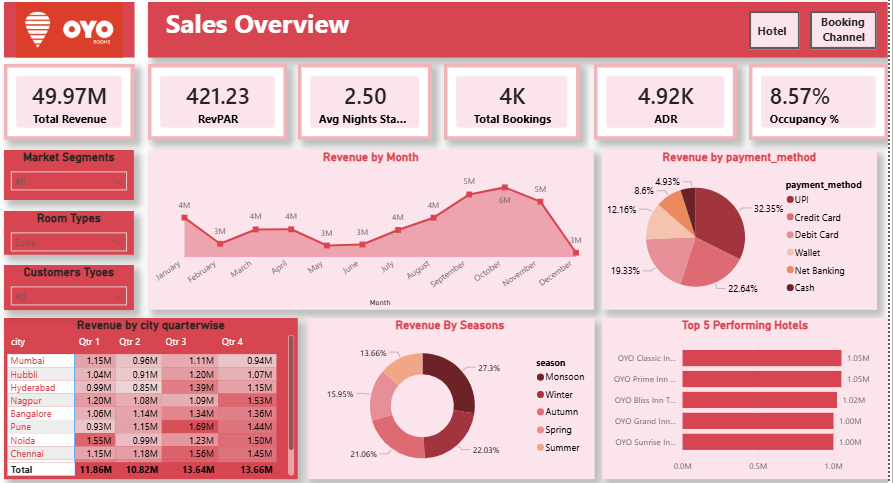

Layout of this report page (visuals, bound fields, positions):
{"tool":"powerbi","page":{"name":"Sales Overview","canvas":[1280,720],"ordinal":0},"visuals":[{"type":"textbox","box":[214.5,17.9,1065.5,80.4],"z":0},{"type":"cardVisual","fields":{"Data":["Customer RFM.Total Revenue"]},"box":[7.2,107.3,187.7,109.1],"z":1000},{"type":"cardVisual","fields":{"Data":["Customer RFM.Total Bookings"]},"box":[640.8,106.6,195.8,109.4],"z":2000},{"type":"cardVisual","fields":{"Data":["Customer RFM.ADR"]},"box":[856.8,106.6,205.9,109.4],"z":3000},{"type":"cardVisual","fields":{"Data":["Customer RFM.Avg Nights Stayed"]},"box":[430.6,106.6,193,109.4],"z":4000},{"type":"cardVisual","fields":{"Data":["Customer RFM.Occupancy %"]},"box":[1080,106.6,200.2,109.4],"z":5000},{"type":"cardVisual","fields":{"Data":["Customer RFM.RevPAR"]},"box":[214.6,106.6,200.2,109.4],"z":6000},{"type":"areaChart","title":"Revenue by Month","fields":{"Category":["Dim_Date.date.Variation.Date Hierarchy.Month"],"Y":["Customer RFM.Total Revenue"]},"box":[213.9,230.1,641.8,230.1],"z":7000},{"type":"donutChart","title":"Revenue By Seasons","fields":{"Category":["Dim_Date.season"],"Y":["Customer RFM.Total Revenue"]},"box":[440.4,472.8,417.1,231.9],"z":8000},{"type":"pieChart","title":" Revenue by payment_method","fields":{"Category":["Fact_Bookings.payment_method"],"Y":["Customer RFM.Total Revenue"]},"box":[868.3,230.1,395.5,230.1],"z":9000},{"type":"clusteredBarChart","title":" Top 5 Performing Hotels","fields":{"Category":["Dim_Hotels.hotel_name"],"Y":["Customer RFM.Total Revenue"]},"box":[868.3,472.3,411.8,231.8],"z":10000},{"type":"pivotTable","title":"Revenue by city quarterwise","fields":{"Columns":["Dim_Date.date.Variation.Date Hierarchy.Quarter"],"Rows":["Dim_Hotels.city"],"Values":["Customer RFM.Total Revenue"]},"box":[7.2,472.3,423.4,231.8],"z":11000},{"type":"image","box":[7.2,17.9,187.7,80.4],"z":12000},{"type":"slicer","title":"Market Segments","fields":{"Values":["Fact_Bookings.market_segment"]},"box":[7.2,230.1,187,71.9],"z":13000},{"type":"slicer","title":"Room Types","fields":{"Values":["Fact_Bookings.room_type"]},"box":[7.2,318.2,187,62.9],"z":14000},{"type":"slicer","title":"Customers Tyoes","fields":{"Values":["Dim_Customers.customer_type"]},"box":[7.2,395.5,187,64.7],"z":15000},{"type":"textbox","box":[1080,30.2,73.4,54.7],"z":18001},{"type":"textbox","box":[1167.8,30.2,96.5,54.7],"z":18002},{"type":"actionButton","box":[1080,30.2,73.4,54.7],"z":18003},{"type":"actionButton","box":[1167.8,30.2,96.5,54.7],"z":18004}]}

Visuals, with their boxes on the page's 1280x720 design canvas (x1, y1, x2, y2). These are canvas units, not pixel positions in the 893x483 screenshot, which may show the page scaled, cropped or inside an application window:
textbox: <bbox>214, 18, 1280, 98</bbox>
cardVisual - Customer RFM.Total Revenue: <bbox>7, 107, 195, 216</bbox>
cardVisual - Customer RFM.Total Bookings: <bbox>641, 107, 837, 216</bbox>
cardVisual - Customer RFM.ADR: <bbox>857, 107, 1063, 216</bbox>
cardVisual - Customer RFM.Avg Nights Stayed: <bbox>431, 107, 624, 216</bbox>
cardVisual - Customer RFM.Occupancy %: <bbox>1080, 107, 1280, 216</bbox>
cardVisual - Customer RFM.RevPAR: <bbox>215, 107, 415, 216</bbox>
"Revenue by Month" areaChart: <bbox>214, 230, 856, 460</bbox>
"Revenue By Seasons" donutChart: <bbox>440, 473, 858, 705</bbox>
" Revenue by payment_method" pieChart: <bbox>868, 230, 1264, 460</bbox>
" Top 5 Performing Hotels" clusteredBarChart: <bbox>868, 472, 1280, 704</bbox>
"Revenue by city quarterwise" pivotTable: <bbox>7, 472, 431, 704</bbox>
image: <bbox>7, 18, 195, 98</bbox>
"Market Segments" slicer: <bbox>7, 230, 194, 302</bbox>
"Room Types" slicer: <bbox>7, 318, 194, 381</bbox>
"Customers Tyoes" slicer: <bbox>7, 396, 194, 460</bbox>
textbox: <bbox>1080, 30, 1153, 85</bbox>
textbox: <bbox>1168, 30, 1264, 85</bbox>
actionButton: <bbox>1080, 30, 1153, 85</bbox>
actionButton: <bbox>1168, 30, 1264, 85</bbox>
